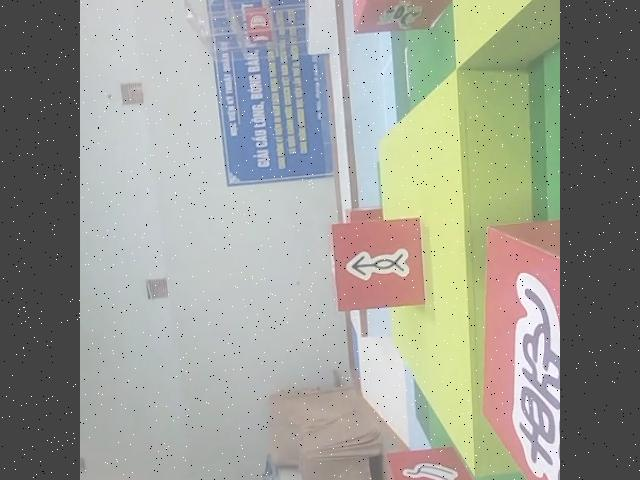R1: (348, 0, 454, 37)
R2 Fake: (479, 216, 560, 480)
R2 Real: (331, 215, 430, 311), (387, 445, 485, 480)
